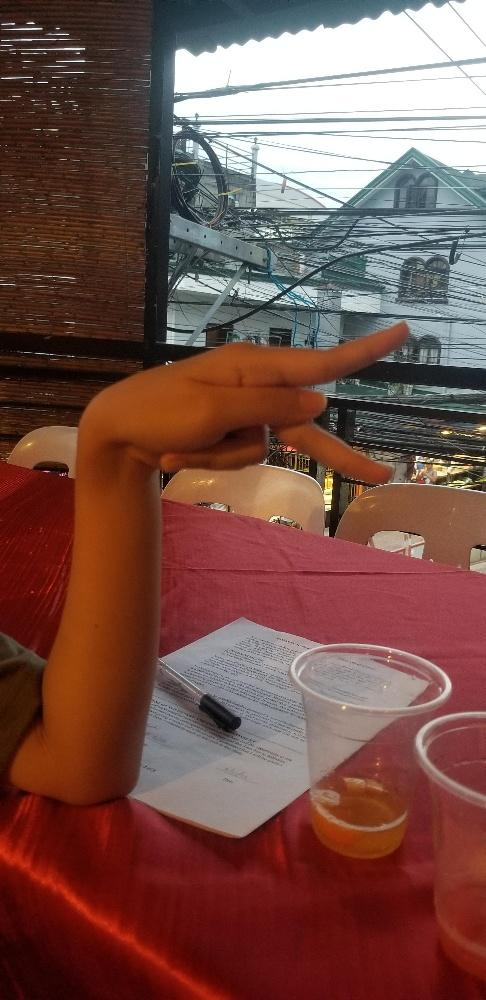p: (72, 319, 411, 483)
